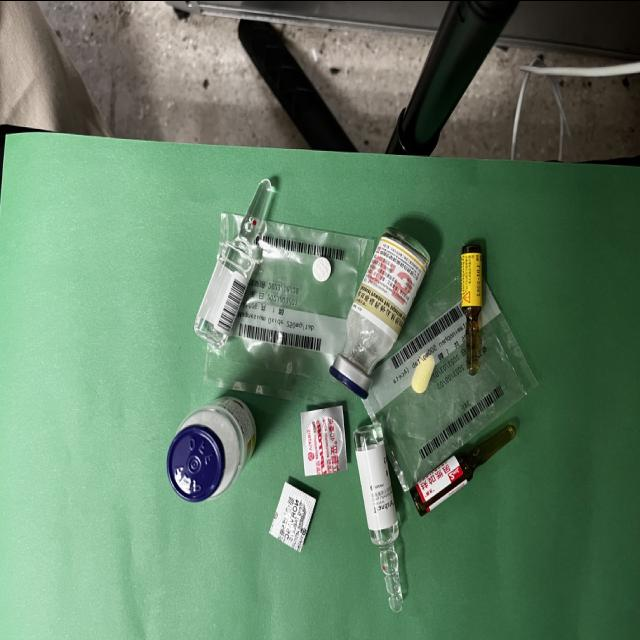Ampoules: (194, 177, 272, 345), (411, 423, 517, 515), (354, 422, 403, 611), (461, 243, 484, 375)
Vials: (330, 226, 432, 399), (167, 396, 258, 503)
